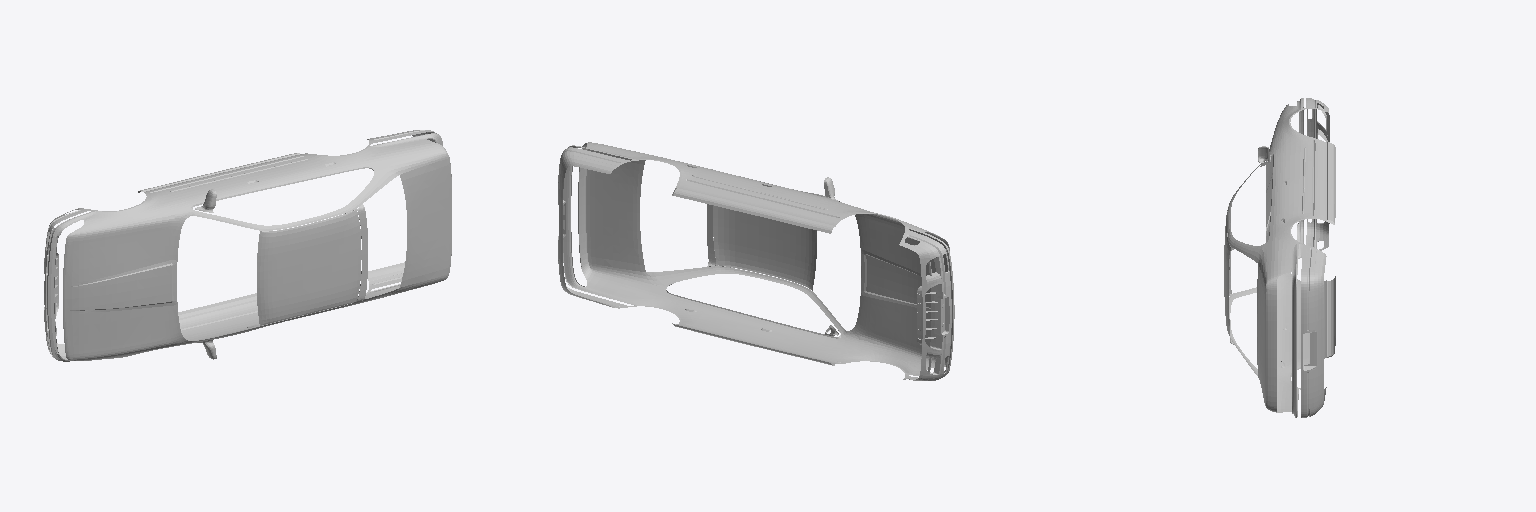
The model's file is body.obj.
3 views of the same model, side by side, from view 1: azimuth 30°, elevation 25°; view 2: azimuth 150°, elevation 25°; view 3: azimuth 270°, elevation 25° (orthographic).
Visible parts, largest first — view 1: body_0, body_006, body_001, body_002, body_005, body_010, body_003; view 2: body_0, body_001, body_006, body_002, body_005, body_004, body_010; view 3: body_001, body_0, body_004, body_002, body_005, body_010.
Part boxes in pixels (x1,y1,x2,y2): body_0: (68,131,449,360); body_006: (63,218,186,359); body_001: (161,154,351,343); body_002: (400,158,451,287); body_005: (44,208,95,361); body_010: (157,153,299,319); body_003: (357,204,367,300); body_0: (577,142,945,375); body_001: (674,161,845,359); body_006: (850,214,949,364); body_002: (578,149,645,271); body_005: (899,227,954,380); body_004: (558,145,584,296); body_010: (672,188,818,360); body_001: (1227,146,1326,372); body_0: (1224,104,1335,412); body_004: (1292,270,1323,417); body_002: (1257,265,1276,405); body_005: (1297,98,1329,250); body_010: (1327,150,1335,357).
Size of the model in its own units: 182 by 74.31 by 44.44.